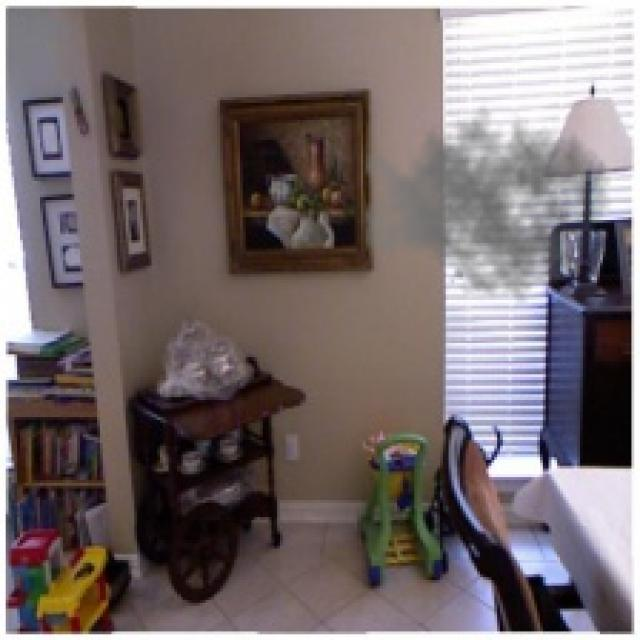smoke: (366, 94, 611, 306)
